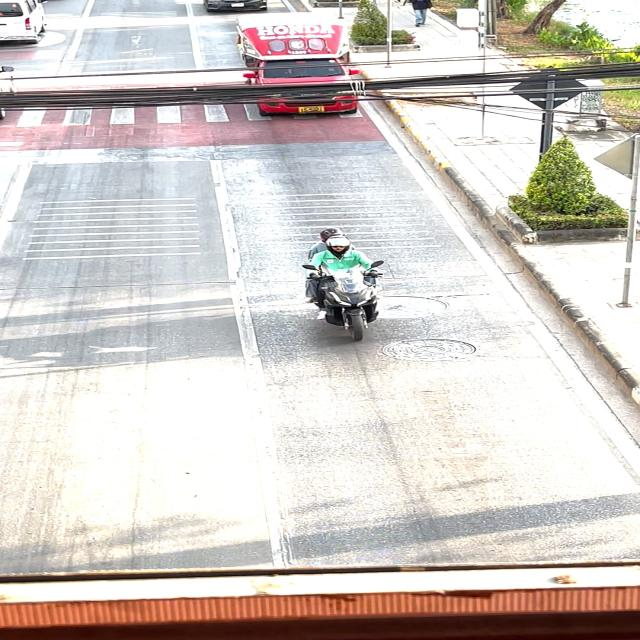car: (216, 9, 386, 124)
